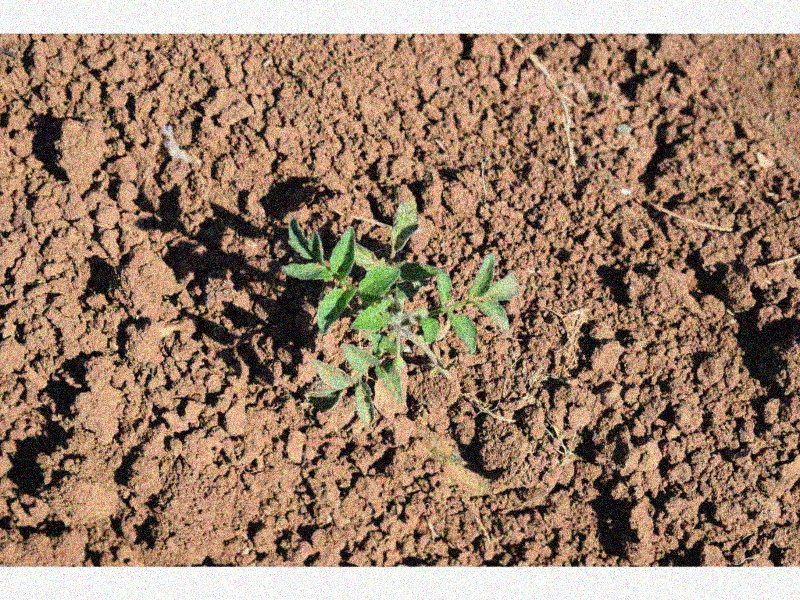tomato: (281, 201, 518, 427)
